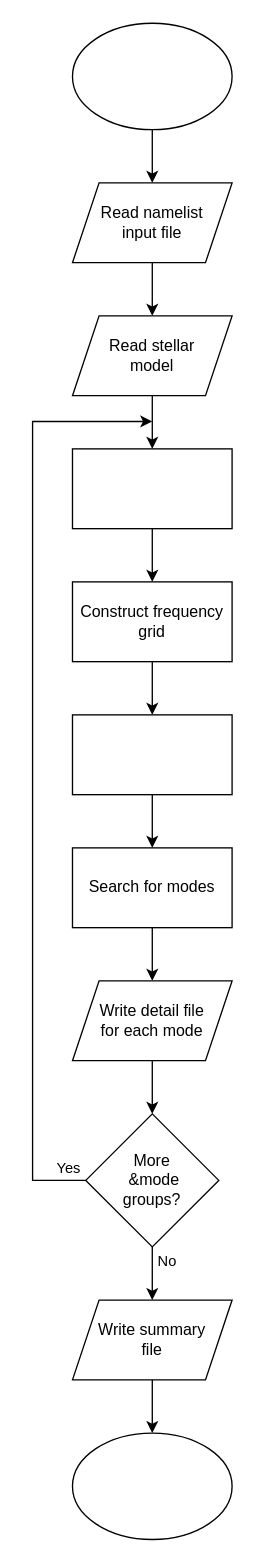
Image size: 255x1563. Some labels were removed from this diagram. The centre of each missing label's shape, as x and y in pixels:
Construct spatial grid: (151,754)
Finish: (151,1485)
Process a &mode namelist group: (151,488)
Start: (151,76)
